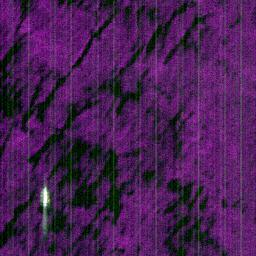Ship: (37, 185, 52, 210)
